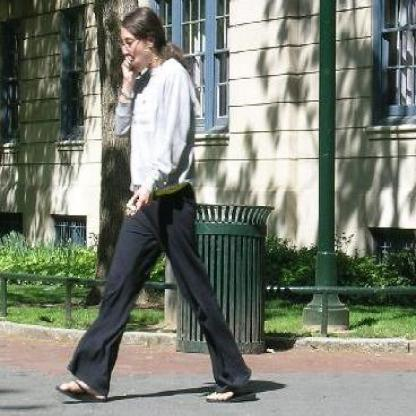person: (53, 5, 260, 402)
